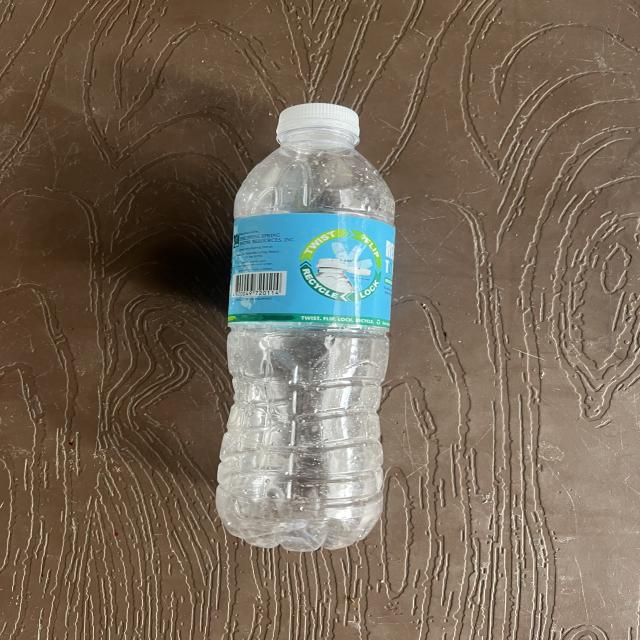REJECT: (206, 114, 527, 560)
